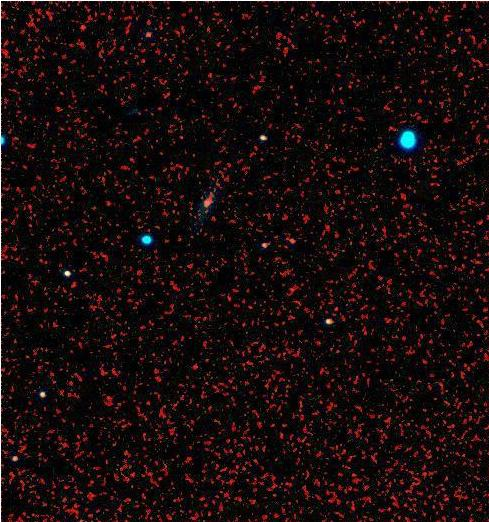star: (68, 12, 98, 42)
